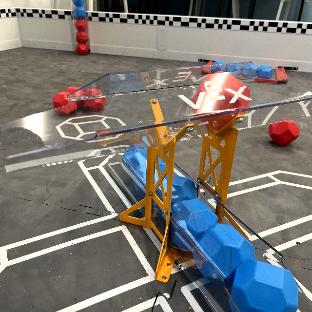Parking-R: (255, 68, 286, 84)
V5_BLUE: (257, 66, 272, 78)
V5_RED: (53, 87, 105, 115), (269, 119, 298, 144), (76, 19, 88, 54), (203, 64, 211, 72)
redingoal: (192, 71, 250, 115)
